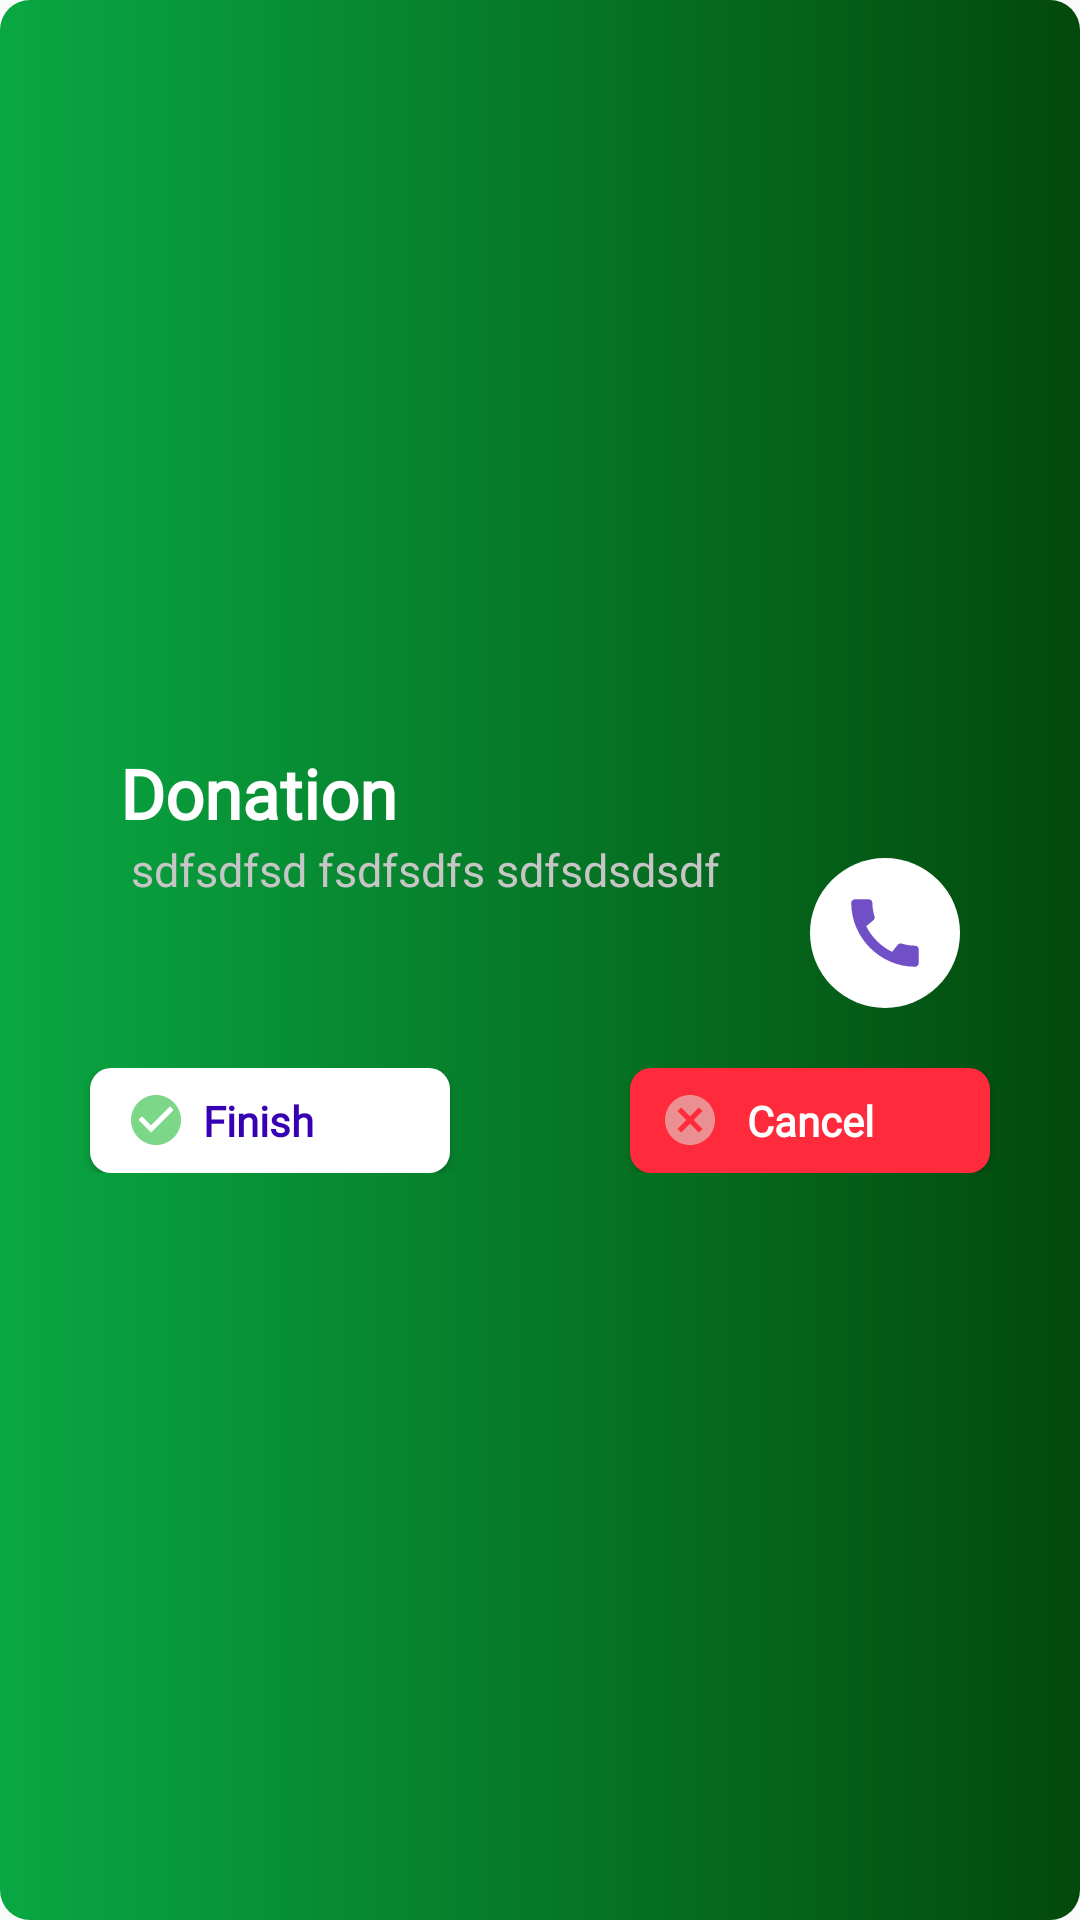

Point at icon controls on the screen. Image size 1080px×1920px, points as (x,y).
call: (885,933)
